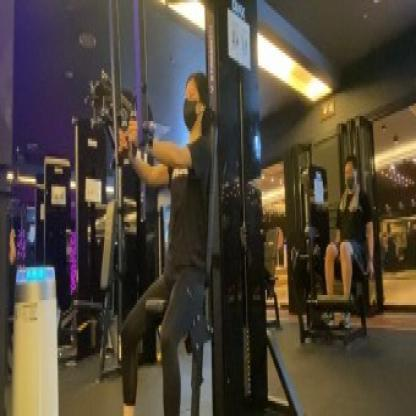chest fly machine: (85, 0, 306, 416)
